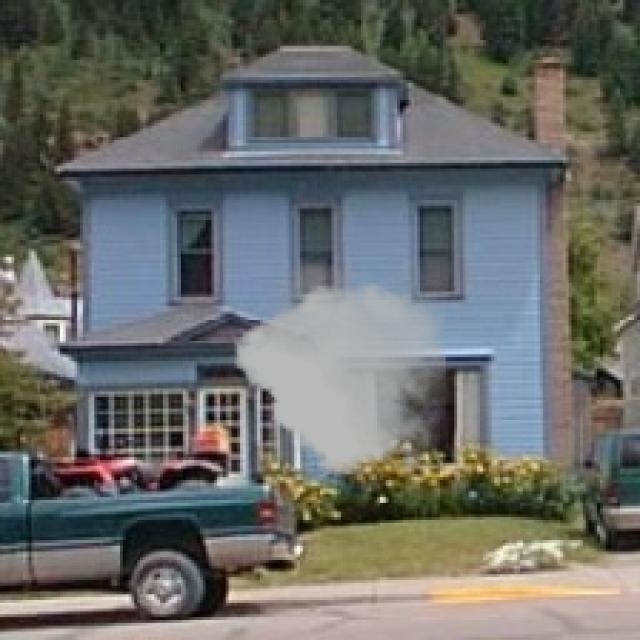Smoke: (234, 257, 446, 480)
